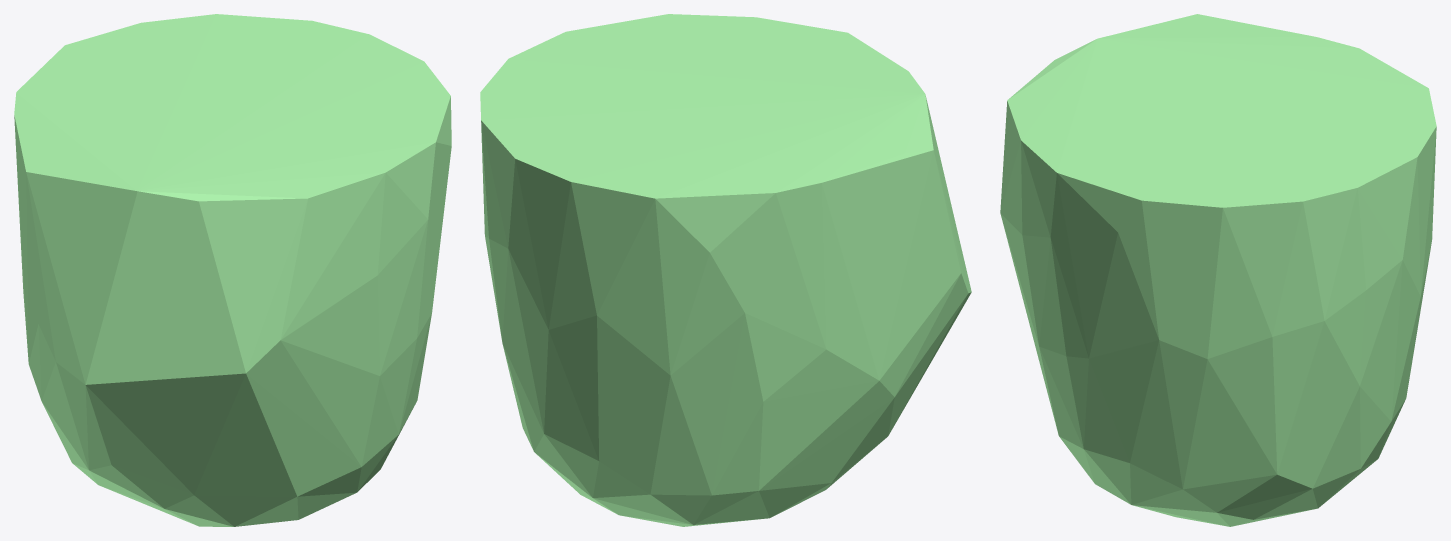
The model's file is exported_panda_link5_resp_coll_2.dae.
3 renders of one model, left to right at view 1: azimuth 30°, elevation 25°; view 2: azimuth 150°, elevation 25°; view 3: azimuth 270°, elevation 25°, orthographic. The views are drawn at different scales.
Parts seen in each view (by area): view 1: node; view 2: node; view 3: node.
Boxes of the visible parts, x1,y1,x2,y2 form: node: (14, 14, 451, 526); node: (480, 14, 971, 526); node: (1000, 14, 1436, 526).
Bounding box in the file's own units: 0.1217 × 0.1118 × 0.1134.
